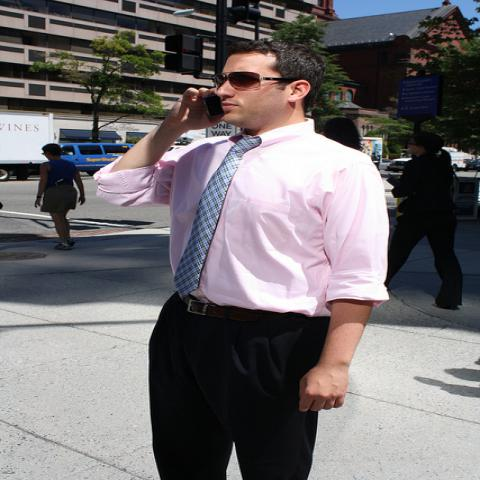car: (57, 143, 135, 176), (464, 159, 480, 172), (378, 158, 392, 169)
truck: (384, 144, 478, 186), (0, 110, 53, 181)
